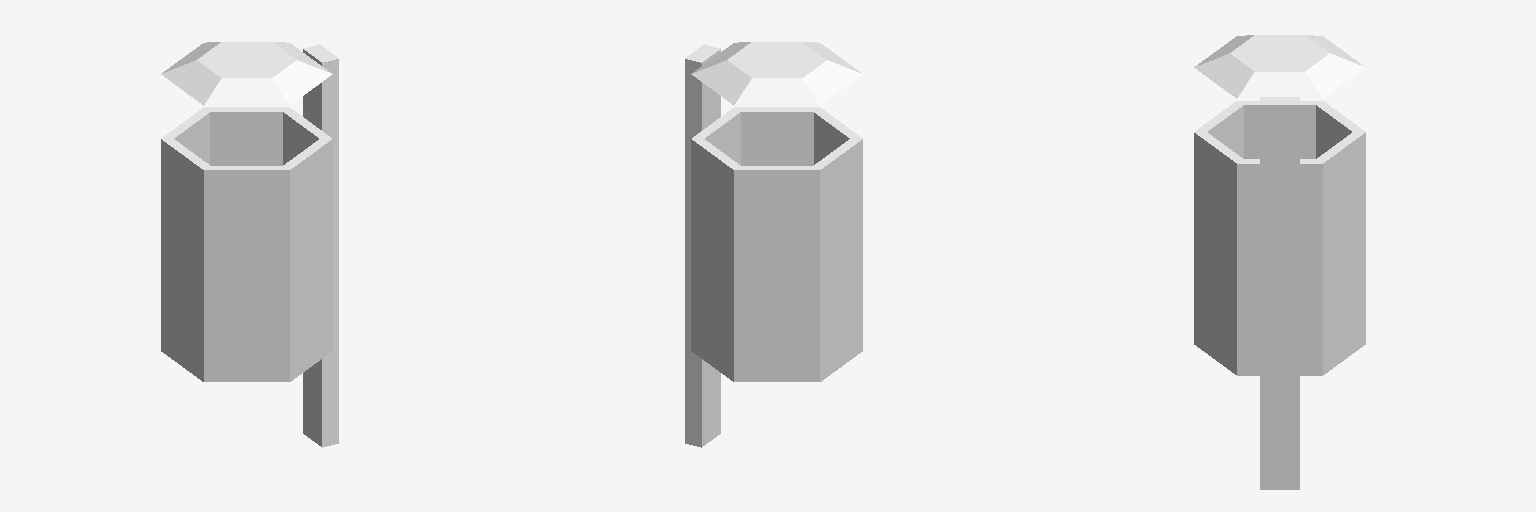
The model's file is kosz_klasyczny.obj.
3 renders of one model, left to right at view 1: azimuth 30°, elevation 25°; view 2: azimuth 150°, elevation 25°; view 3: azimuth 270°, elevation 25°, orthographic.
Visible parts, largest first — view 1: kosz_klasyczny; view 2: kosz_klasyczny; view 3: kosz_klasyczny.
Part boxes in pixels (x1,y1,x2,y2): kosz_klasyczny: (161, 42, 338, 447); kosz_klasyczny: (685, 42, 862, 447); kosz_klasyczny: (1194, 35, 1365, 489).
Bounding box in the file's own units: 43.54 × 112 × 44.04.